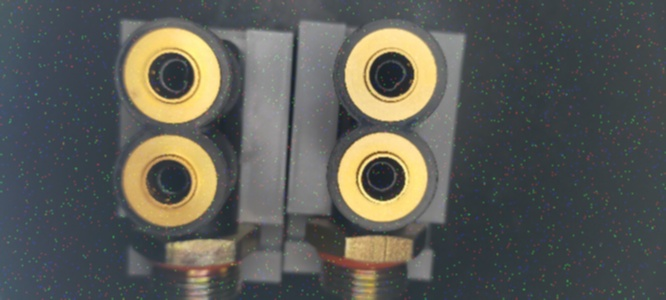off-centered: (156, 53, 194, 98), (374, 53, 411, 96)
